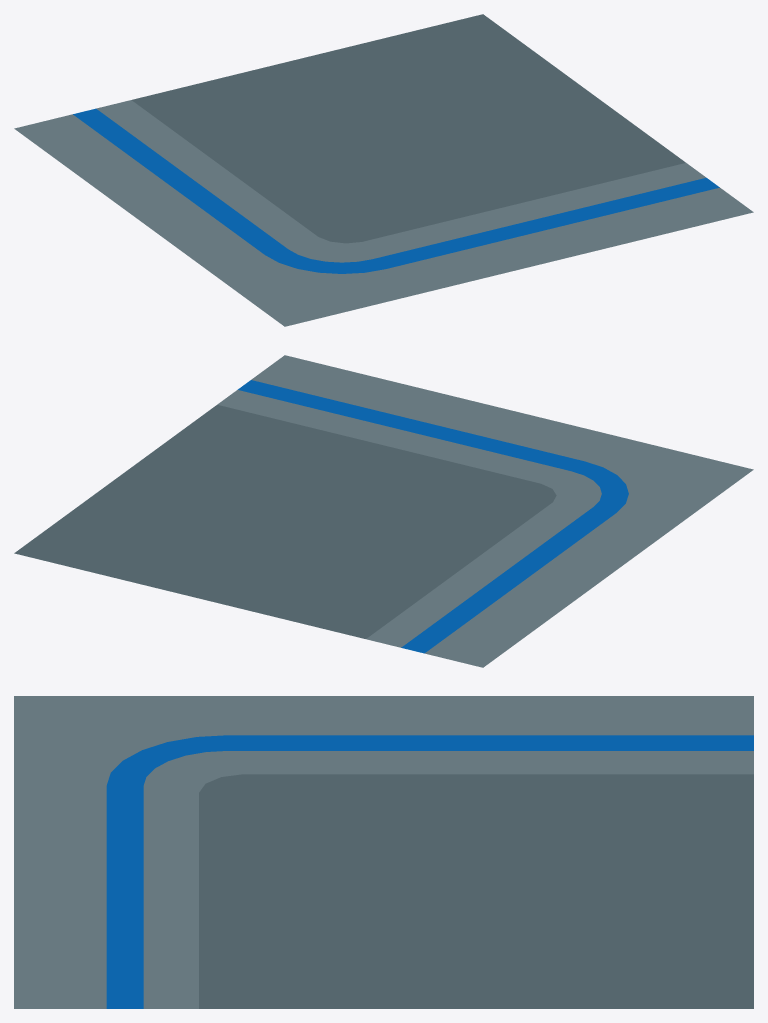
The model's file is Ceiling_type_C_035.fbx.
3 views of the same model, one above another, from view 1: azimuth 30°, elevation 25°; view 2: azimuth 150°, elevation 25°; view 3: azimuth 270°, elevation 25° (orthographic). The views are drawn at different scales.
Visible parts, largest first — view 1: Ceiling_type_C_035; view 2: Ceiling_type_C_035; view 3: Ceiling_type_C_035.
Boxes of the visible parts, box(x1,y1,x2,y2) form: Ceiling_type_C_035: box(14, 14, 753, 326); Ceiling_type_C_035: box(14, 355, 753, 667); Ceiling_type_C_035: box(14, 696, 753, 1008).
Size of the model in its own units: 400 by 400 by 1.2.
